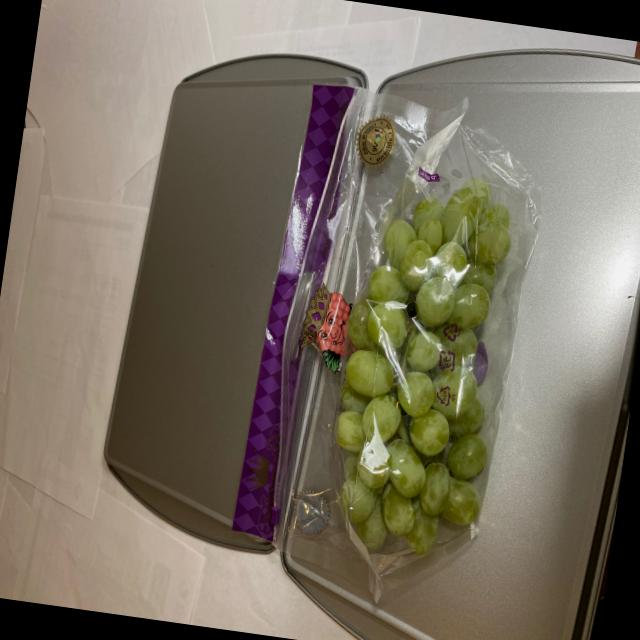grapes: (322, 135, 531, 578)
